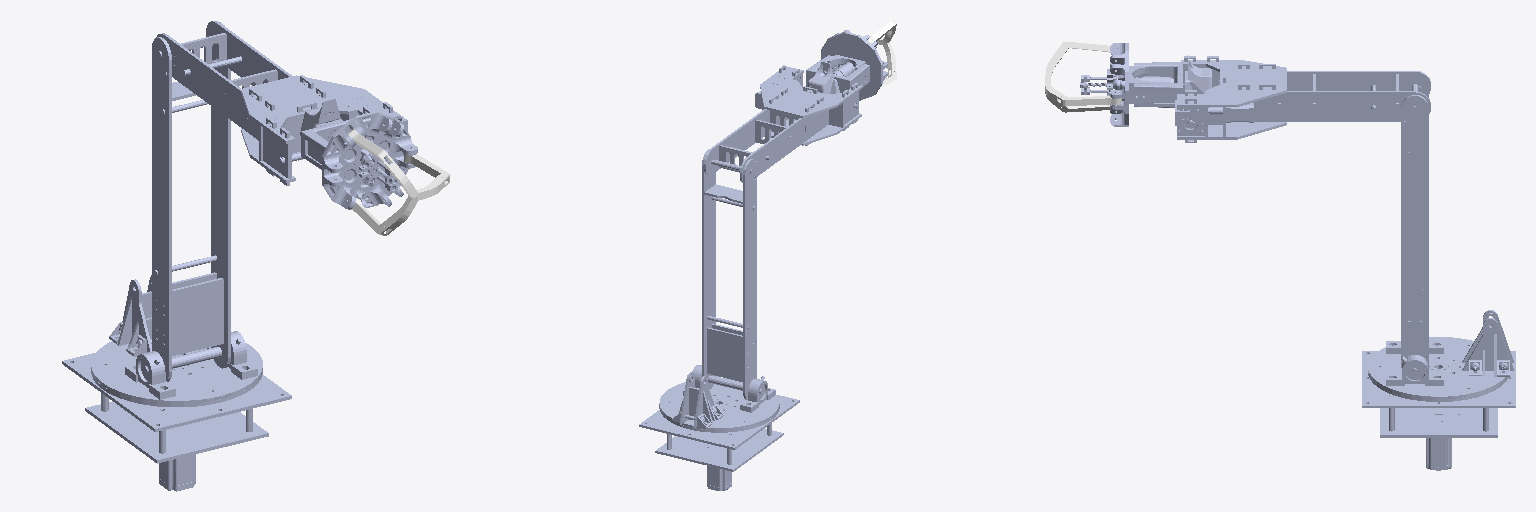
robot.urdf — rover_assembly:
<?xml version="1.0" encoding="utf-8"?>
<!-- This URDF was automatically created by SolidWorks to URDF Exporter! Originally created by [author] ([email redacted]) 
     Commit Version: 1.6.0-1-g15f4949  Build Version: 1.6.7594.29634
     For more information, please see http://wiki.ros.org/sw_urdf_exporter -->
<robot
  name="rover_assembly">
  <link
    name="rover_body">
    <inertial>
    <origin
        xyz="0.0024064 -0.10248 -0.051695"
        rpy="0 0 0" />
    <mass
        value="50.286" />
    <inertia
        ixx="12.892"
        ixy="0.079855"
        ixz="-0.10325"
        iyy="15.217"
        iyz="3.3541"
        izz="18.99" />
    </inertial>
    <visual>
    <origin
        xyz="0 0 0"
        rpy="0 0 0" />
    <geometry>
        <mesh
        filename="package://rover_assembly/meshes/rover_body.STL" />
    </geometry>
    <material
        name="">
        <color
        rgba="0.79216 0.81961 0.93333 1" />
    </material>
    </visual>
    <collision>
    <origin
        xyz="0 0 0"
        rpy="0 0 0" />
    <geometry>
        <mesh
        filename="package://rover_assembly/meshes/rover_body.STL" />
    </geometry>
    </collision>
</link>
<link
    name="wheel1">
    <inertial>
    <origin
        xyz="-0.59774 0.25947 0.19243"
        rpy="0 0 0" />
    <mass
        value="50.286" />
    <inertia
        ixx="12.892"
        ixy="0.079855"
        ixz="-0.10325"
        iyy="15.217"
        iyz="3.3541"
        izz="18.99" />
    </inertial>
    <visual>
    <origin
        xyz="0 0 0"
        rpy="0 0 0" />
    <geometry>
        <mesh
        filename="package://rover_assembly/meshes/wheel1.STL" />
    </geometry>
    <material
        name="">
        <color
        rgba="0.79216 0.81961 0.93333 1" />
    </material>
    </visual>
    <collision>
    <origin
        xyz="0 0 0"
        rpy="0 0 0" />
    <geometry>
        <mesh
        filename="package://rover_assembly/meshes/wheel1.STL" />
    </geometry>
    </collision>
</link>
<joint
    name="wheel1_joint"
    type="continuous">
    <origin
    xyz="0.60014 -0.36195 -0.24413"
    rpy="0 0 0" />
    <parent
    link="rover_body" />
    <child
    link="wheel1" />
    <axis
    xyz="1 0 0" />
    <limit
    lower="0"
    upper="0"
    effort="80"
    velocity="25" />
</joint>
<link
    name="wheel2">
    <inertial>
    <origin
        xyz="-0.59774 -0.46443 0.19243"
        rpy="0 0 0" />
    <mass
        value="50.286" />
    <inertia
        ixx="12.892"
        ixy="0.079855"
        ixz="-0.10325"
        iyy="15.217"
        iyz="3.3541"
        izz="18.99" />
    </inertial>
    <visual>
    <origin
        xyz="0 0 0"
        rpy="0 0 0" />
    <geometry>
        <mesh
        filename="package://rover_assembly/meshes/wheel2.STL" />
    </geometry>
    <material
        name="">
        <color
        rgba="0.79216 0.81961 0.93333 1" />
    </material>
    </visual>
    <collision>
    <origin
        xyz="0 0 0"
        rpy="0 0 0" />
    <geometry>
        <mesh
        filename="package://rover_assembly/meshes/wheel2.STL" />
    </geometry>
    </collision>
</link>
<joint
    name="wheel2_joint"
    type="continuous">
    <origin
    xyz="0.60014 0.36195 -0.24413"
    rpy="0 0 0" />
    <parent
    link="rover_body" />
    <child
    link="wheel2" />
    <axis
    xyz="1 0 0" />
    <limit
    lower="0"
    upper="0"
    effort="80"
    velocity="25" />
</joint>
<link
    name="wheel3">
    <inertial>
    <origin
        xyz="0.60255 0.25947 0.19243"
        rpy="0 0 0" />
    <mass
        value="50.286" />
    <inertia
        ixx="12.892"
        ixy="0.079855"
        ixz="-0.10325"
        iyy="15.217"
        iyz="3.3541"
        izz="18.99" />
    </inertial>
    <visual>
    <origin
        xyz="0 0 0"
        rpy="0 0 0" />
    <geometry>
        <mesh
        filename="package://rover_assembly/meshes/wheel3.STL" />
    </geometry>
    <material
        name="">
        <color
        rgba="0.79216 0.81961 0.93333 1" />
    </material>
    </visual>
    <collision>
    <origin
        xyz="0 0 0"
        rpy="0 0 0" />
    <geometry>
        <mesh
        filename="package://rover_assembly/meshes/wheel3.STL" />
    </geometry>
    </collision>
</link>
<joint
    name="wheel3_joint"
    type="continuous">
    <origin
    xyz="-0.60014 -0.36195 -0.24413"
    rpy="0 0 0" />
    <parent
    link="rover_body" />
    <child
    link="wheel3" />
    <axis
    xyz="-1 0 0" />
    <limit
    lower="0"
    upper="0"
    effort="80"
    velocity="25" />
</joint>
<link
    name="wheel4">
    <inertial>
    <origin
        xyz="0.60255 -0.46443 0.19243"
        rpy="0 0 0" />
    <mass
        value="50.286" />
    <inertia
        ixx="12.892"
        ixy="0.079855"
        ixz="-0.10325"
        iyy="15.217"
        iyz="3.3541"
        izz="18.99" />
    </inertial>
    <visual>
    <origin
        xyz="0 0 0"
        rpy="0 0 0" />
    <geometry>
        <mesh
        filename="package://rover_assembly/meshes/wheel4.STL" />
    </geometry>
    <material
        name="">
        <color
        rgba="0.79216 0.81961 0.93333 1" />
    </material>
    </visual>
    <collision>
    <origin
        xyz="0 0 0"
        rpy="0 0 0" />
    <geometry>
        <mesh
        filename="package://rover_assembly/meshes/wheel4.STL" />
    </geometry>
    </collision>
</link>
<joint
    name="wheel4_joint"
    type="continuous">
    <origin
    xyz="-0.60014 0.36195 -0.24413"
    rpy="0 0 0" />
    <parent
    link="rover_body" />
    <child
    link="wheel4" />
    <axis
    xyz="-1 0 0" />
    <limit
    lower="0"
    upper="0"
    effort="80"
    velocity="25" />
</joint>
<link
    name="arm_link0">
    <inertial>
    <origin
        xyz="0.0024064 0.20232 0.037205"
        rpy="0 0 0" />
    <mass
        value="50.286" />
    <inertia
        ixx="12.892"
        ixy="0.079855"
        ixz="-0.10325"
        iyy="15.217"
        iyz="3.3541"
        izz="18.99" />
    </inertial>
    <visual>
    <origin
        xyz="0 0 0"
        rpy="0 0 0" />
    <geometry>
        <mesh
        filename="package://rover_assembly/meshes/arm_link0.STL" />
    </geometry>
    <material
        name="">
        <color
        rgba="0.79216 0.81961 0.93333 1" />
    </material>
    </visual>
    <collision>
    <origin
        xyz="0 0 0"
        rpy="0 0 0" />
    <geometry>
        <mesh
        filename="package://rover_assembly/meshes/arm_link0.STL" />
    </geometry>
    </collision>
</link>
<joint
    name="arm_link0_joint"
    type="fixed">
    <origin
    xyz="0 -0.3048 -0.0889"
    rpy="0 0 0" />
    <parent
    link="rover_body" />
    <child
    link="arm_link0" />
    <axis
    xyz="0 0 0" />
</joint>
<link
    name="arm_link1">
    <inertial>
    <origin
        xyz="0.002508 0.20222 -0.18634"
        rpy="0 0 0" />
    <mass
        value="50.286" />
    <inertia
        ixx="12.892"
        ixy="0.079855"
        ixz="-0.10325"
        iyy="15.217"
        iyz="3.3541"
        izz="18.99" />
    </inertial>
    <visual>
    <origin
        xyz="0 0 0"
        rpy="0 0 0" />
    <geometry>
        <mesh
        filename="package://rover_assembly/meshes/arm_link1.STL" />
    </geometry>
    <material
        name="">
        <color
        rgba="0.79216 0.81961 0.93333 1" />
    </material>
    </visual>
    <collision>
    <origin
        xyz="0 0 0"
        rpy="0 0 0" />
    <geometry>
        <mesh
        filename="package://rover_assembly/meshes/arm_link1.STL" />
    </geometry>
    </collision>
</link>
<joint
    name="arm_link1_joint"
    type="revolute">
    <origin
    xyz="-0.0001016 0.0001016 0.22355"
    rpy="0 0 0" />
    <parent
    link="arm_link0" />
    <child
    link="arm_link1" />
    <axis
    xyz="0 0 -1" />
    <limit
    lower="-3.14"
    upper="3.14"
    effort="80"
    velocity="25" />
</joint>
<link
    name="arm_link2">
    <inertial>
    <origin
        xyz="0.0025039 0.25327 -0.23154"
        rpy="0 0 0" />
    <mass
        value="50.286" />
    <inertia
        ixx="12.892"
        ixy="0.079855"
        ixz="-0.10325"
        iyy="15.217"
        iyz="3.3541"
        izz="18.99" />
    </inertial>
    <visual>
    <origin
        xyz="0 0 0"
        rpy="0 0 0" />
    <geometry>
        <mesh
        filename="package://rover_assembly/meshes/arm_link2.STL" />
    </geometry>
    <material
        name="">
        <color
        rgba="0.79216 0.81961 0.93333 1" />
    </material>
    </visual>
    <collision>
    <origin
        xyz="0 0 0"
        rpy="0 0 0" />
    <geometry>
        <mesh
        filename="package://rover_assembly/meshes/arm_link2.STL" />
    </geometry>
    </collision>
</link>
<joint
    name="arm_link2_joint"
    type="revolute">
    <origin
    xyz="0 -0.051052 0.0452"
    rpy="0 0 0" />
    <parent
    link="arm_link1" />
    <child
    link="arm_link2" />
    <axis
    xyz="-1 0 0" />
    <limit
    lower="-3.14"
    upper="3.14"
    effort="80"
    velocity="25" />
</joint>
<link
    name="arm_link3">
    <inertial>
    <origin
        xyz="0.0025039 0.25327 -0.84114"
        rpy="0 0 0" />
    <mass
        value="50.286" />
    <inertia
        ixx="12.892"
        ixy="0.079855"
        ixz="-0.10325"
        iyy="15.217"
        iyz="3.3541"
        izz="18.99" />
    </inertial>
    <visual>
    <origin
        xyz="0 0 0"
        rpy="0 0 0" />
    <geometry>
        <mesh
        filename="package://rover_assembly/meshes/arm_link3.STL" />
    </geometry>
    <material
        name="">
        <color
        rgba="0.79216 0.81961 0.93333 1" />
    </material>
    </visual>
    <collision>
    <origin
        xyz="0 0 0"
        rpy="0 0 0" />
    <geometry>
        <mesh
        filename="package://rover_assembly/meshes/arm_link3.STL" />
    </geometry>
    </collision>
</link>
<joint
    name="arm_link3_joint"
    type="revolute">
    <origin
    xyz="0 0 0.6096"
    rpy="0 0 0" />
    <parent
    link="arm_link2" />
    <child
    link="arm_link3" />
    <axis
    xyz="1 0 0" />
    <limit
    lower="-3.14"
    upper="3.14"
    effort="80"
    velocity="25" />
</joint>
<link
    name="arm_link4">
    <inertial>
    <origin
        xyz="-0.078271 0.73551 -0.83511"
        rpy="0 0 0" />
    <mass
        value="50.286" />
    <inertia
        ixx="12.892"
        ixy="0.079855"
        ixz="-0.10325"
        iyy="15.217"
        iyz="3.3541"
        izz="18.99" />
    </inertial>
    <visual>
    <origin
        xyz="0 0 0"
        rpy="0 0 0" />
    <geometry>
        <mesh
        filename="package://rover_assembly/meshes/arm_link4.STL" />
    </geometry>
    <material
        name="">
        <color
        rgba="0.79216 0.81961 0.93333 1" />
    </material>
    </visual>
    <collision>
    <origin
        xyz="0 0 0"
        rpy="0 0 0" />
    <geometry>
        <mesh
        filename="package://rover_assembly/meshes/arm_link4.STL" />
    </geometry>
    </collision>
</link>
<joint
    name="arm_link4_joint"
    type="revolute">
    <origin
    xyz="0.080775 -0.48223 -0.0060298"
    rpy="0 0 0" />
    <parent
    link="arm_link3" />
    <child
    link="arm_link4" />
    <axis
    xyz="1 0 0" />
    <limit
    lower="-3.14"
    upper="3.14"
    effort="80"
    velocity="25" />
</joint>
<link
    name="arm_link5">
    <inertial>
    <origin
        xyz="0.0027494 0.75779 -0.86837"
        rpy="0 0 0" />
    <mass
        value="50.286" />
    <inertia
        ixx="12.892"
        ixy="0.079855"
        ixz="-0.10325"
        iyy="15.217"
        iyz="3.3541"
        izz="18.99" />
    </inertial>
    <visual>
    <origin
        xyz="0 0 0"
        rpy="0 0 0" />
    <geometry>
        <mesh
        filename="package://rover_assembly/meshes/arm_link5.STL" />
    </geometry>
    <material
        name="">
        <color
        rgba="0.79216 0.81961 0.93333 1" />
    </material>
    </visual>
    <collision>
    <origin
        xyz="0 0 0"
        rpy="0 0 0" />
    <geometry>
        <mesh
        filename="package://rover_assembly/meshes/arm_link5.STL" />
    </geometry>
    </collision>
</link>
<joint
    name="arm_link5_joint"
    type="revolute">
    <origin
    xyz="-0.08102 -0.02228 0.03326"
    rpy="0 0 0" />
    <parent
    link="arm_link4" />
    <child
    link="arm_link5" />
    <axis
    xyz="0 -1 0" />
    <limit
    lower="-3.14"
    upper="3.14"
    effort="80"
    velocity="25" />
</joint>
<link
    name="gripper_finger1">
    <inertial>
    <origin
        xyz="-0.011165 -0.085231 -0.000127"
        rpy="0 0 0" />
    <mass
        value="0.020758" />
    <inertia
        ixx="5.6257E-05"
        ixy="-1.6742E-05"
        ixz="-2.6977E-19"
        iyy="1.1909E-05"
        iyz="-3.7402E-19"
        izz="6.7392E-05" />
    </inertial>
    <visual>
    <origin
        xyz="0 0 0"
        rpy="0 0 0" />
    <geometry>
        <mesh
        filename="package://rover_assembly/meshes/gripper_finger1.STL" />
    </geometry>
    <material
        name="">
        <color
        rgba="1 1 1 1" />
    </material>
    </visual>
    <collision>
    <origin
        xyz="0 0 0"
        rpy="0 0 0" />
    <geometry>
        <mesh
        filename="package://rover_assembly/meshes/gripper_finger1.STL" />
    </geometry>
    </collision>
</link>
<joint
    name="gripper_finger1_joint"
    type="revolute">
    <origin
    xyz="0.0762 -0.13859 0"
    rpy="0 0 0" />
    <parent
    link="arm_link5" />
    <child
    link="gripper_finger1" />
    <axis
    xyz="0 0 1" />
    <limit
    lower="-3.14"
    upper="0"
    effort="80"
    velocity="25" />
</joint>
<link
    name="gripper_finger2">
    <inertial>
    <origin
        xyz="-0.011165 -0.085231 -0.000127"
        rpy="0 0 0" />
    <mass
        value="0.020758" />
    <inertia
        ixx="5.6257E-05"
        ixy="-1.6742E-05"
        ixz="-3.151E-19"
        iyy="1.1909E-05"
        iyz="-4.8787E-19"
        izz="6.7392E-05" />
    </inertial>
    <visual>
    <origin
        xyz="0 0 0"
        rpy="0 0 0" />
    <geometry>
        <mesh
        filename="package://rover_assembly/meshes/gripper_finger2.STL" />
    </geometry>
    <material
        name="">
        <color
        rgba="1 1 1 1" />
    </material>
    </visual>
    <collision>
    <origin
        xyz="0 0 0"
        rpy="0 0 0" />
    <geometry>
        <mesh
        filename="package://rover_assembly/meshes/gripper_finger2.STL" />
    </geometry>
    </collision>
</link>
<joint
    name="gripper_finger2_joint"
    type="revolute">
    <origin
    xyz="-0.0381 -0.13859 0.065991"
    rpy="-3.1416 -1.0472 -3.1416" />
    <parent
    link="arm_link5" />
    <child
    link="gripper_finger2" />
    <axis
    xyz="0 0 1" />
    <limit
    lower="-3.14"
    upper="0"
    effort="80"
    velocity="25" />
</joint>
<link
    name="gripper_finger3">
    <inertial>
    <origin
        xyz="-0.011165 -0.085231 -0.000127"
        rpy="0 0 0" />
    <mass
        value="0.020758" />
    <inertia
        ixx="5.6257E-05"
        ixy="-1.6742E-05"
        ixz="-3.3034E-19"
        iyy="1.1909E-05"
        iyz="-4.7659E-19"
        izz="6.7392E-05" />
    </inertial>
    <visual>
    <origin
        xyz="0 0 0"
        rpy="0 0 0" />
    <geometry>
        <mesh
        filename="package://rover_assembly/meshes/gripper_finger3.STL" />
    </geometry>
    <material
        name="">
        <color
        rgba="1 1 1 1" />
    </material>
    </visual>
    <collision>
    <origin
        xyz="0 0 0"
        rpy="0 0 0" />
    <geometry>
        <mesh
        filename="package://rover_assembly/meshes/gripper_finger3.STL" />
    </geometry>
    </collision>
</link>
<joint
    name="gripper_finger3_joint"
    type="revolute">
    <origin
    xyz="-0.0381 -0.13859 -0.065991"
    rpy="-3.1416 1.0472 -3.1416" />
    <parent
    link="arm_link5" />
    <child
    link="gripper_finger3" />
    <axis
    xyz="0 0 1" />
    <limit
    lower="-3.14"
    upper="0"
    effort="80"
    velocity="25" />
</joint>
</robot>

--- What the picture shows (computed from the rendered views, not written in the file) ---
Views: 3 orthographic renders of the robot side by side, from view 1: azimuth 30°, elevation 25°; view 2: azimuth 150°, elevation 25°; view 3: azimuth 270°, elevation 25°.
Model rover_assembly with 14 links and 13 joints (8 revolute, 4 continuous, 1 fixed), rooted at rover_body, posed every joint at zero.
Visible links, largest first — view 1: arm_link2, arm_link3, arm_link1, arm_link0, arm_link5, gripper_finger3, arm_link4, gripper_finger2, gripper_finger1; view 2: arm_link2, arm_link3, arm_link1, arm_link0, arm_link5, arm_link4; view 3: arm_link3, arm_link1, arm_link2, arm_link0, arm_link5, gripper_finger1, arm_link4, gripper_finger2.
Link boxes in pixels (left/top/right/bottom): arm_link2: left=152, top=22, right=230, bottom=381; arm_link3: left=156, top=21, right=407, bottom=185; arm_link1: left=91, top=275, right=262, bottom=406; arm_link0: left=62, top=353, right=291, bottom=491; arm_link5: left=301, top=111, right=417, bottom=211; gripper_finger3: left=351, top=196, right=417, bottom=235; arm_link4: left=278, top=99, right=342, bottom=164; gripper_finger2: left=348, top=129, right=417, bottom=197; gripper_finger1: left=404, top=154, right=449, bottom=200; arm_link2: left=702, top=149, right=756, bottom=399; arm_link3: left=704, top=65, right=861, bottom=182; arm_link1: left=659, top=365, right=779, bottom=432; arm_link0: left=639, top=395, right=799, bottom=490; arm_link5: left=806, top=30, right=887, bottom=100; arm_link4: left=808, top=61, right=858, bottom=108; arm_link3: left=1175, top=56, right=1430, bottom=142; arm_link1: left=1368, top=310, right=1513, bottom=401; arm_link2: left=1401, top=84, right=1428, bottom=367; arm_link0: left=1362, top=351, right=1515, bottom=470; arm_link5: left=1080, top=43, right=1182, bottom=126; gripper_finger1: left=1045, top=83, right=1121, bottom=105; arm_link4: left=1183, top=55, right=1212, bottom=126; gripper_finger2: left=1045, top=41, right=1110, bottom=82.
Size in the robot's own frame: 0.3048 by 1.01 by 0.9929 metres.
9 mesh visuals loaded from 14 distinct referenced files (9 binary STL); not drawn: 5 (reference not matched to a file when rendering).